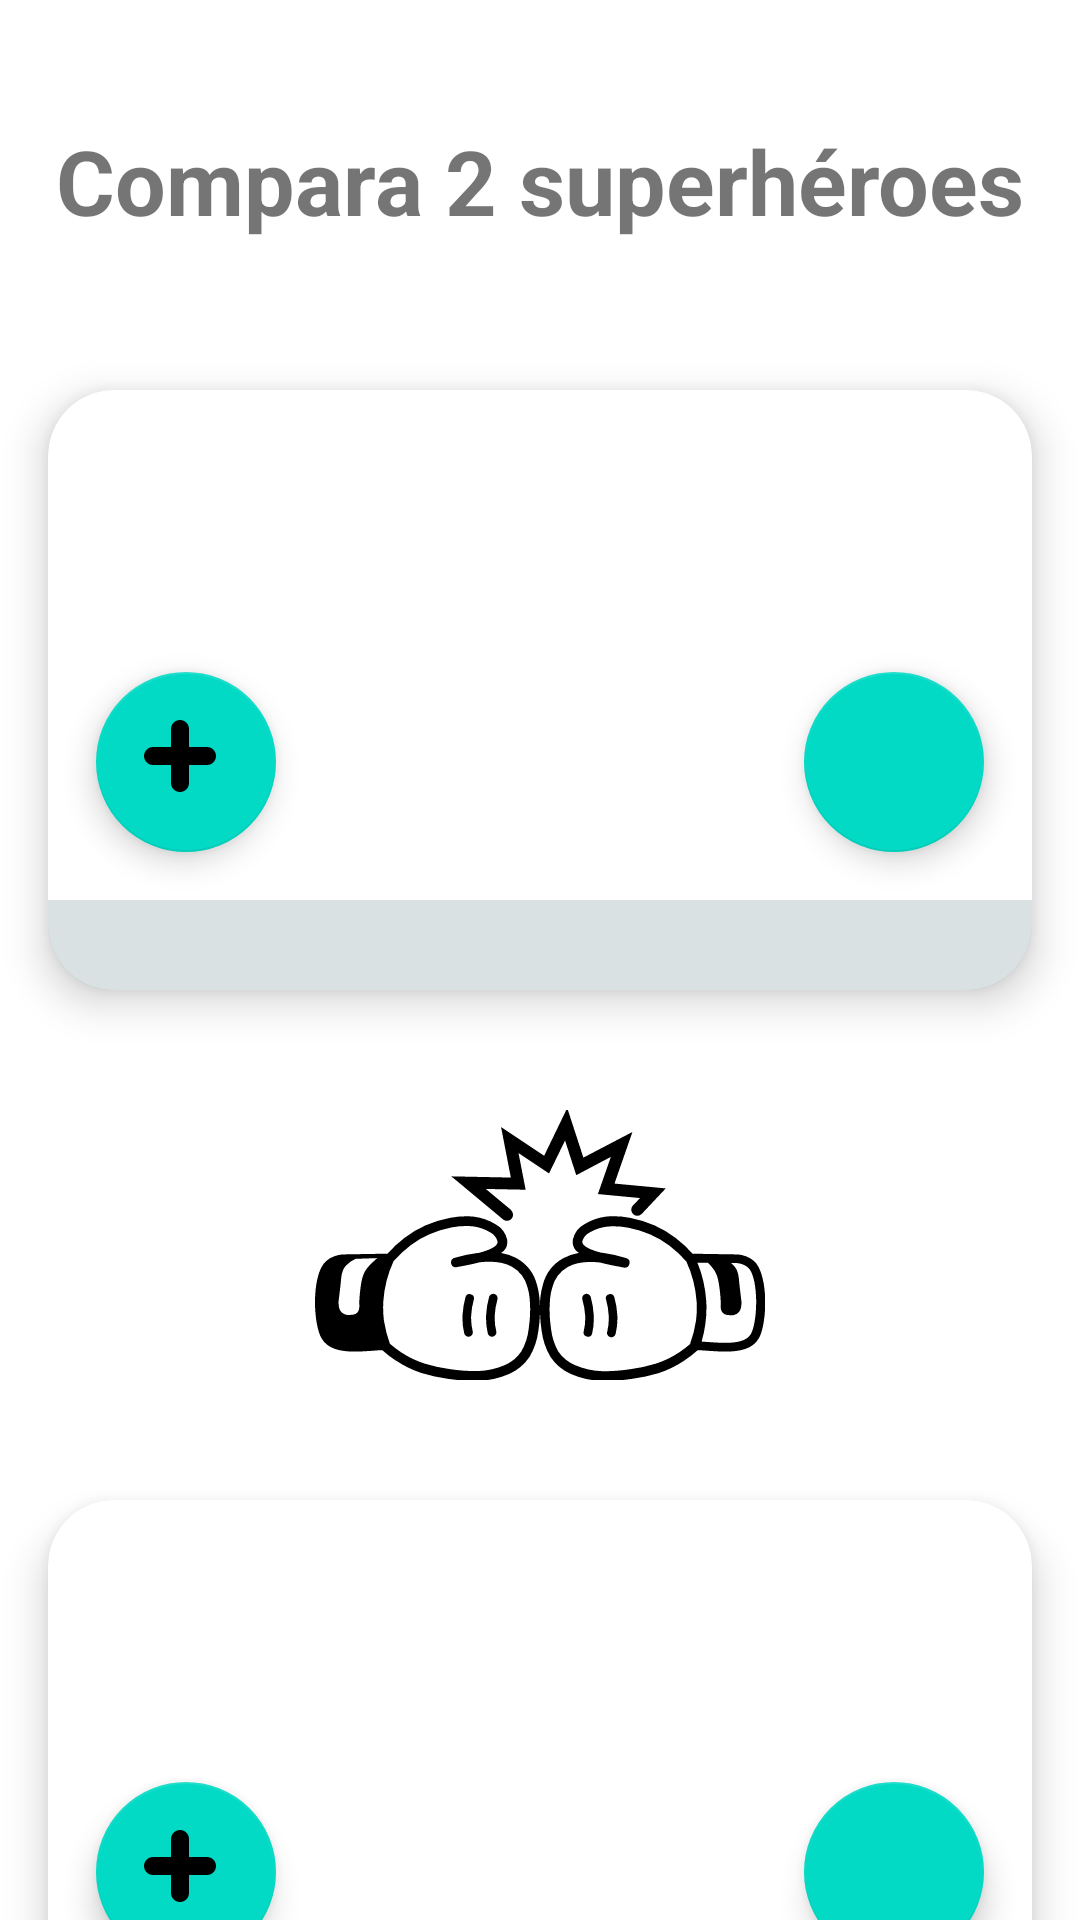

Screen size 1080px×1920px. Icon name, then its box in pixels as (x1, y1, x2, y2):
Introduce el primer superhéroe: (96, 672, 276, 852)
